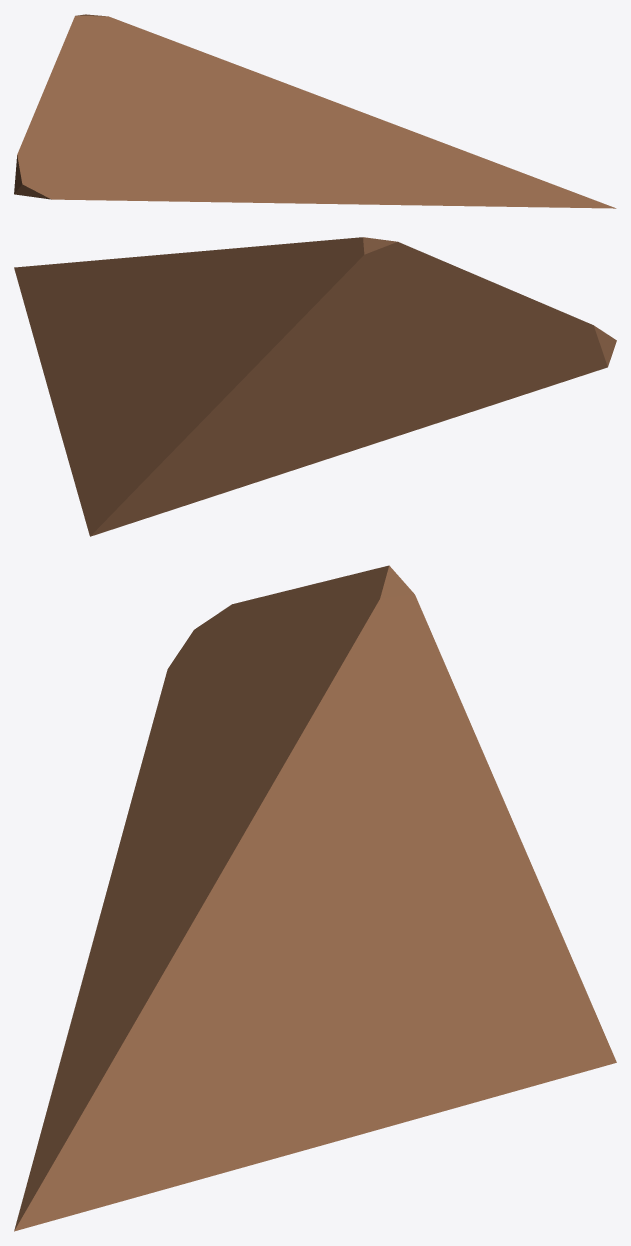
File: WoodCellCube_003_cell_004.fbx
3 views of the same model, one above another, from view 1: azimuth 30°, elevation 25°; view 2: azimuth 150°, elevation 25°; view 3: azimuth 270°, elevation 25° (orthographic). The views are drawn at different scales.
Visible parts, largest first — view 1: WoodCellCube_003_cell_004; view 2: WoodCellCube_003_cell_004; view 3: WoodCellCube_003_cell_004.
Part boxes in pixels (<box>): WoodCellCube_003_cell_004: <box>14,14,616,208</box>; WoodCellCube_003_cell_004: <box>14,237,616,536</box>; WoodCellCube_003_cell_004: <box>14,565,616,1231</box>.
Size of the model in its own units: 0.4478 by 0.2959 by 0.7376.
1 material, 1 textured.
